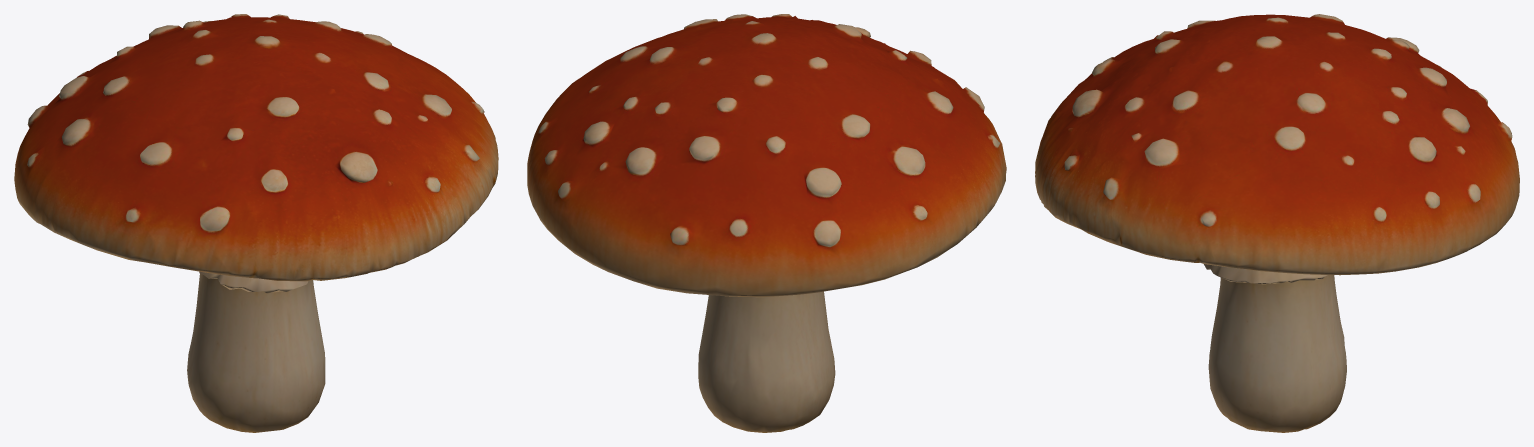
3 renders of one model, left to right at view 1: azimuth 30°, elevation 25°; view 2: azimuth 150°, elevation 25°; view 3: azimuth 270°, elevation 25°, orthographic.
Parts seen in each view (by area): view 1: Mega mushroom; view 2: Mega mushroom; view 3: Mega mushroom.
Boxes of the visible parts, box(x1,y1,x2,y2) form: Mega mushroom: box(14, 14, 498, 432); Mega mushroom: box(527, 14, 1006, 432); Mega mushroom: box(1035, 14, 1519, 432).
Bounding box in the file's own units: 18 × 15.64 × 17.93.
1 material, 1 textured.
